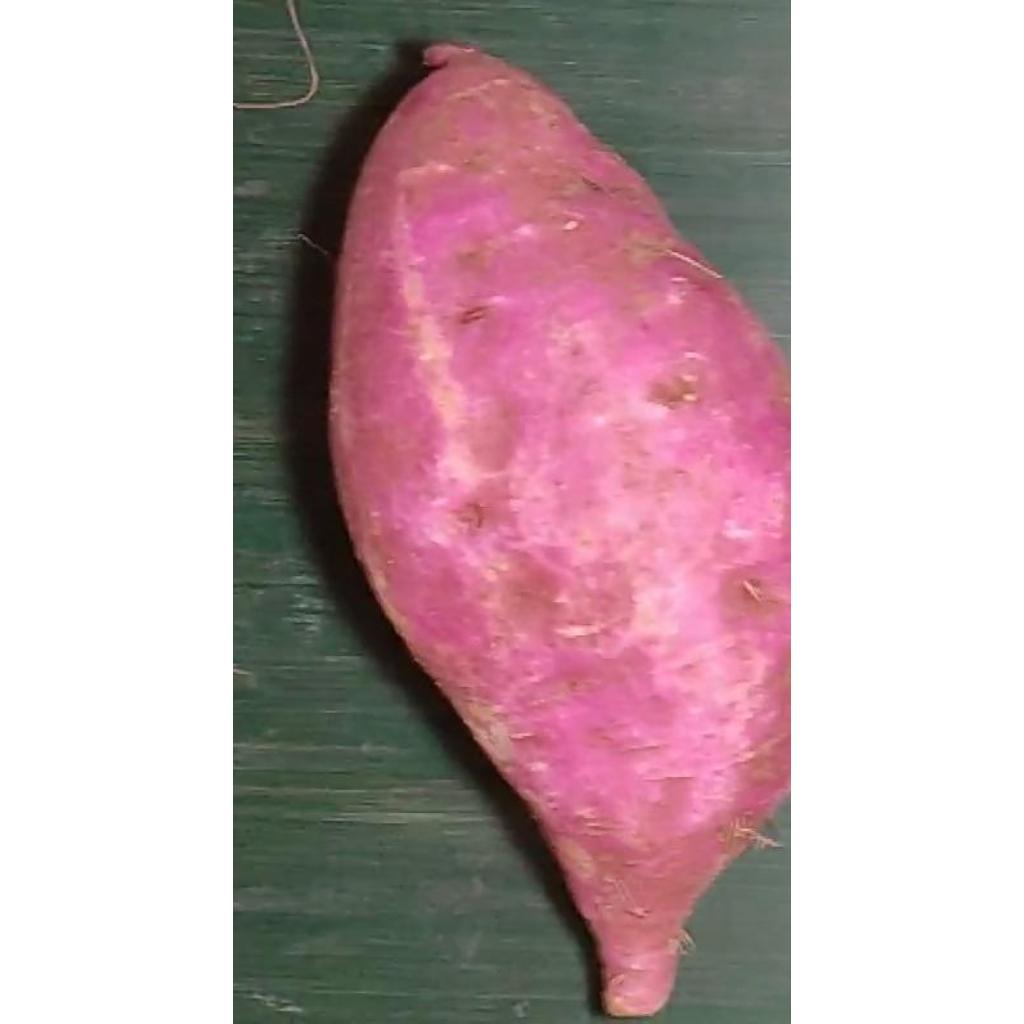Sweet Potato: (327, 44, 791, 1023)
